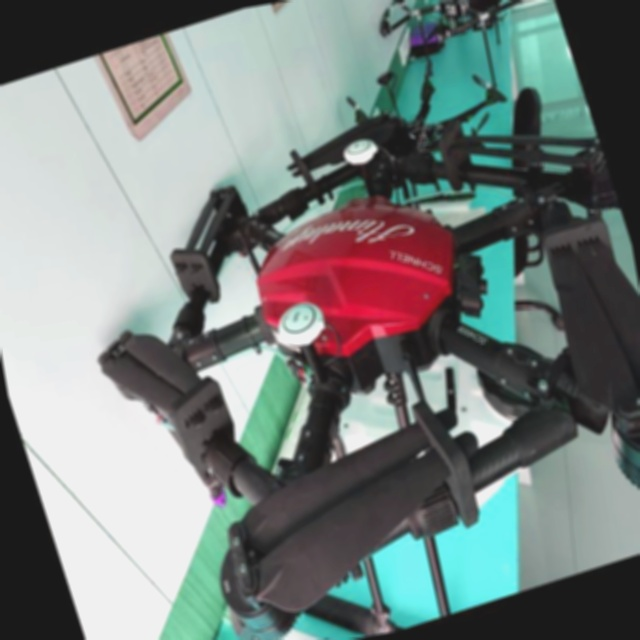agriculturedrone: (36, 55, 640, 640)
